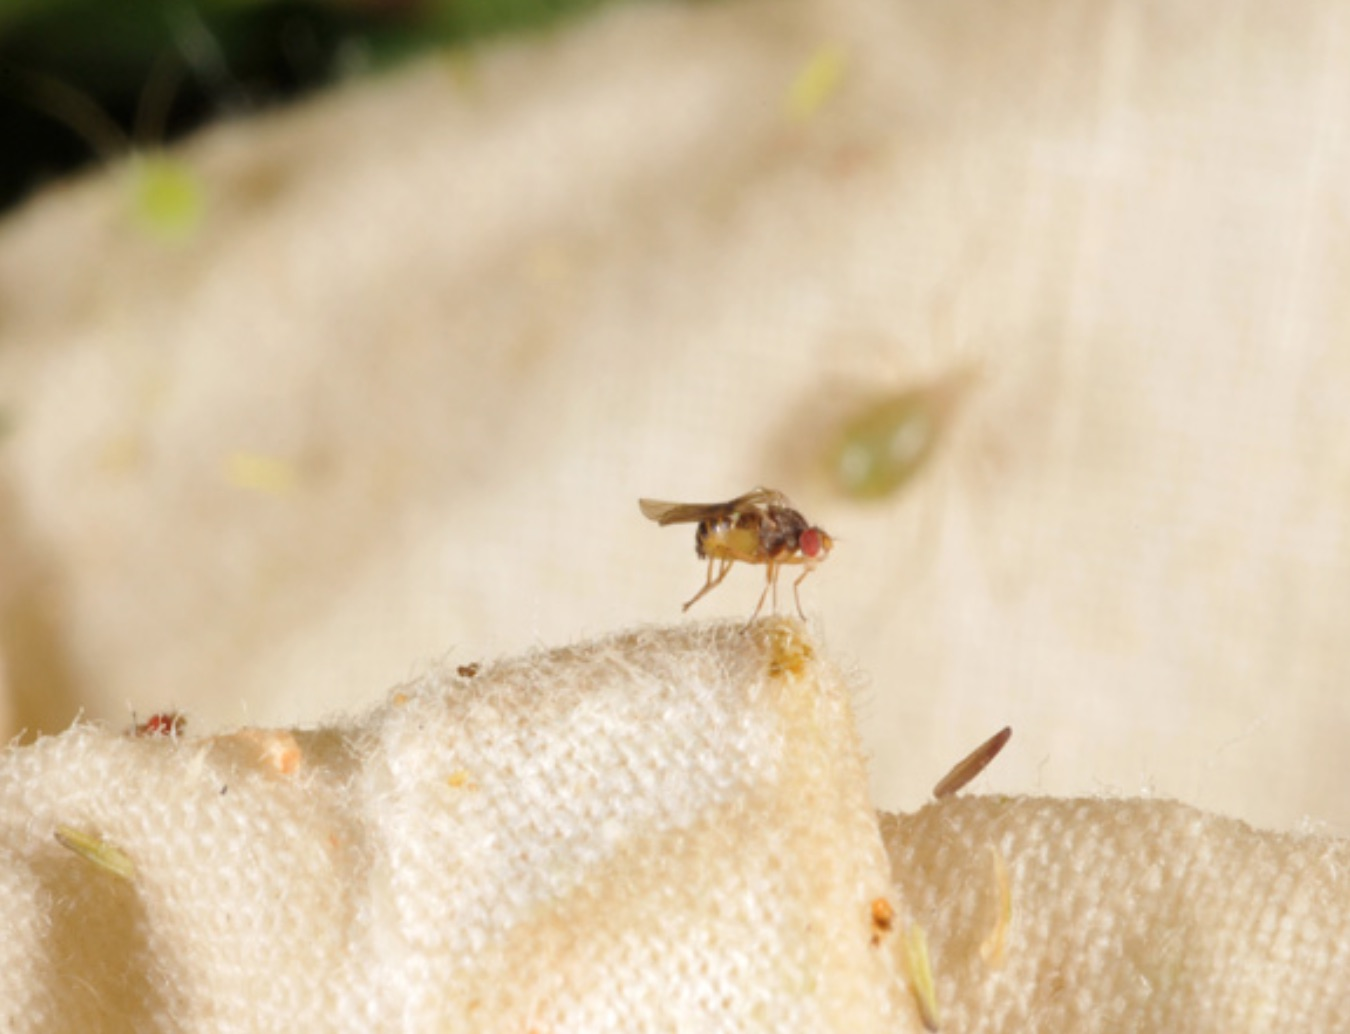Fruit fly: (612, 472, 914, 626)
